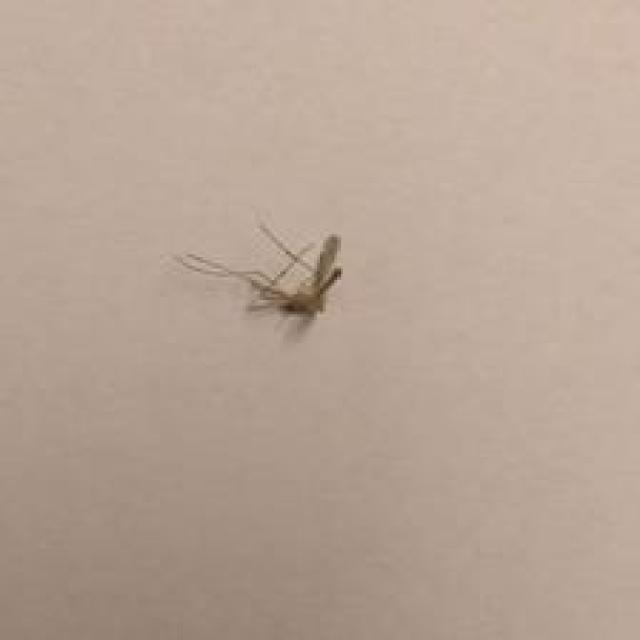Culex: (176, 220, 344, 331)
